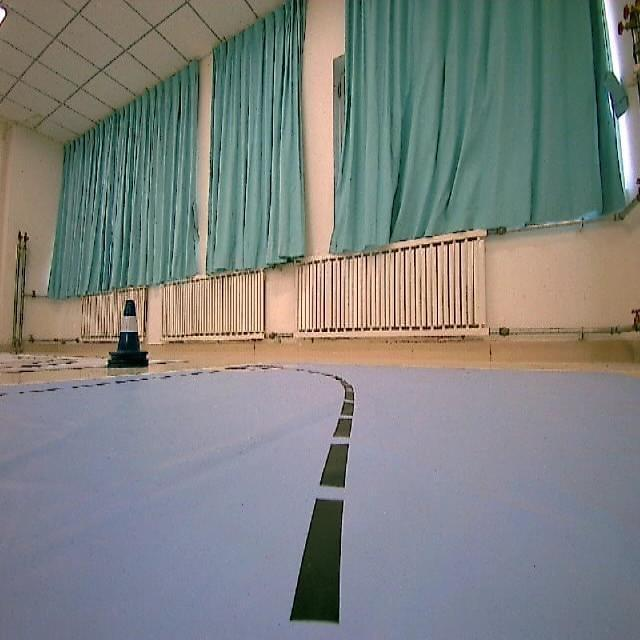obstacle: (104, 294, 151, 374)
